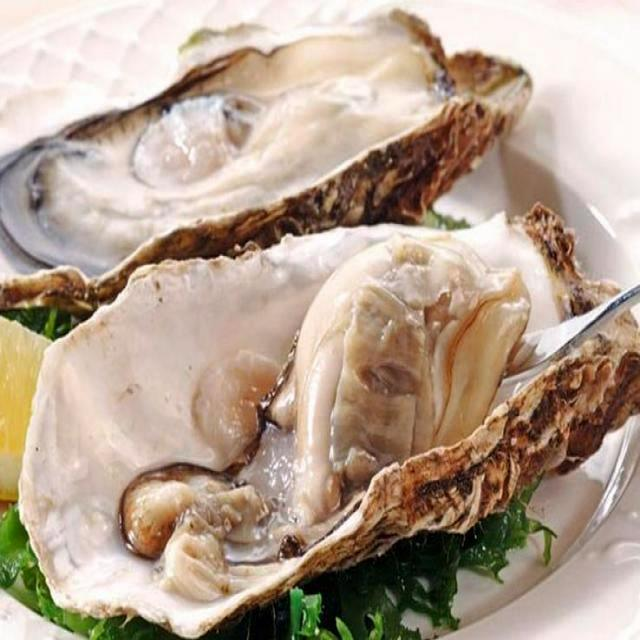Oyster-Open: (1, 189, 640, 639), (3, 5, 563, 335)
